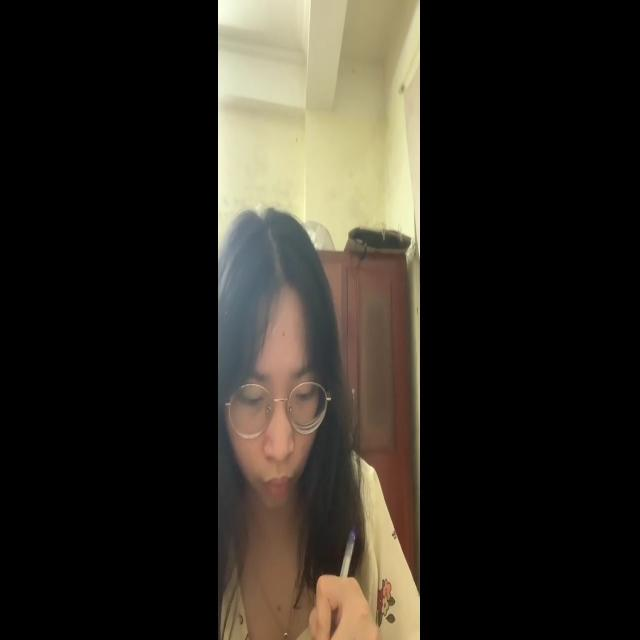student: (224, 180, 406, 632)
